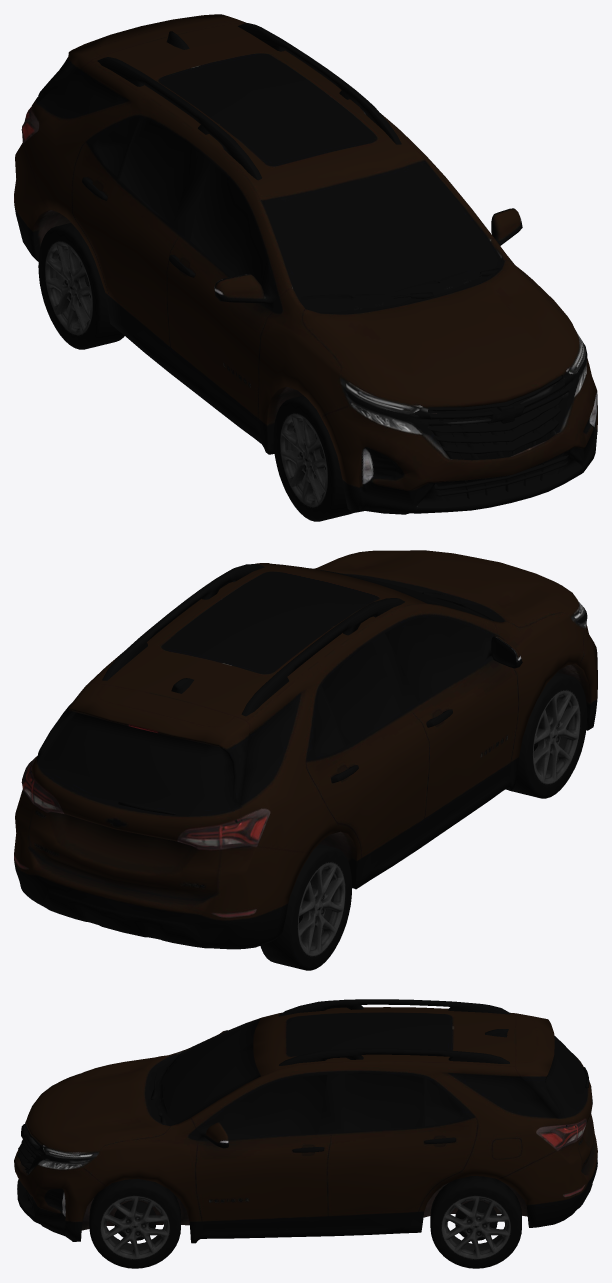
File: chevrolet-equinox.glb
3 views of the same model, one above another, from view 1: azimuth 30°, elevation 25°; view 2: azimuth 150°, elevation 25°; view 3: azimuth 270°, elevation 25° (orthographic). The views are drawn at different scales.
Visible parts, largest first — view 1: carbody, wheel_br, wheel_fr; view 2: carbody, wheel_br, wheel_fr; view 3: carbody, wheel_bl, wheel_fl.
Part boxes in pixels (x1=…): carbody: x1=14, y1=14, x2=597, y2=514; wheel_br: x1=38, y1=223, x2=124, y2=349; wheel_fr: x1=273, y1=395, x2=352, y2=521; carbody: x1=14, y1=550, x2=597, y2=949; wheel_br: x1=260, y1=843, x2=352, y2=970; wheel_fr: x1=507, y1=672, x2=587, y2=798; carbody: x1=14, y1=999, x2=597, y2=1243; wheel_bl: x1=430, y1=1176, x2=521, y2=1268; wheel_fl: x1=89, y1=1178, x2=180, y2=1268.
Bounding box in the file's own units: 1.98 × 1.71 × 4.55.
1 material, 1 textured.
